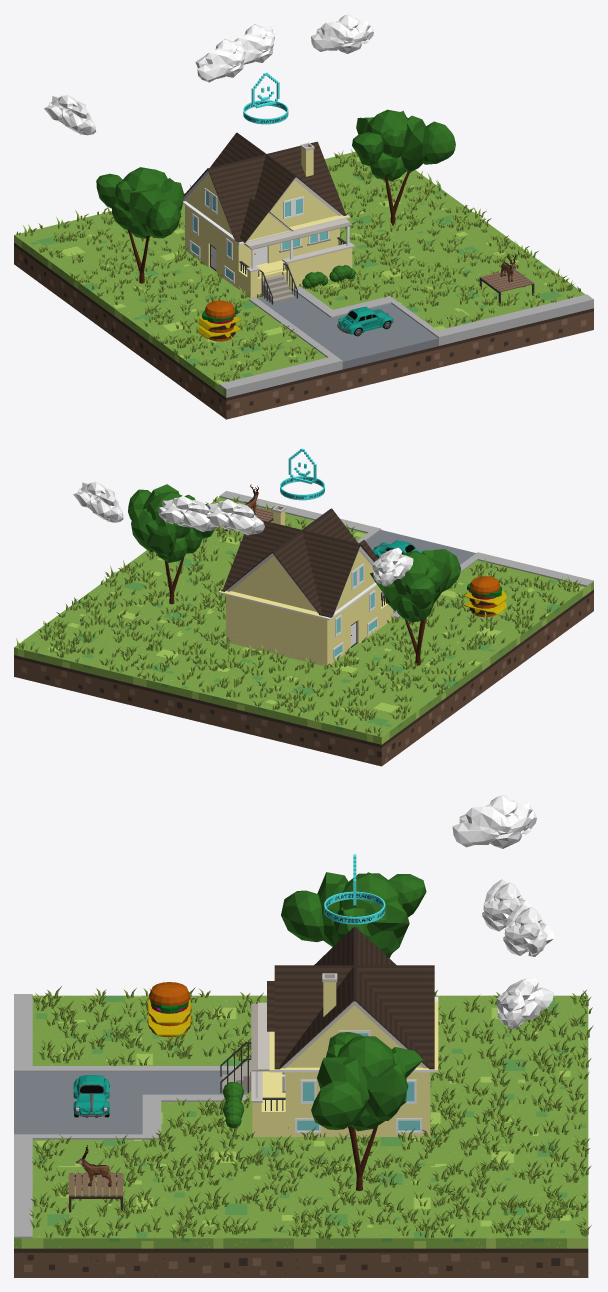
The picture shows the model from 3 angles, top to bottom: view 1: azimuth 30°, elevation 25°; view 2: azimuth 150°, elevation 25°; view 3: azimuth 270°, elevation 25°; orthographic projection. The views are drawn at different scales.
Visible parts, largest first — view 1: Cube.006, Cube.1555, Circle.012_Grass_0.192, Cube.007, tree, tree.001, OBJRANDOM_HAMBURGER, VEHICLES_VOLKSWAGEN, TYPE_PREMIUM, Cube.009; view 2: Cube.006, Cube.1555, Circle.012_Grass_0.192, Cube.007, tree.001, tree, OBJRANDOM_HAMBURGER, TYPE_PREMIUM; view 3: Cube.006, Circle.012_Grass_0.192, Cube.1555, tree, Cube.007, tree.001, OBJRANDOM_HAMBURGER, VEHICLES_VOLKSWAGEN, Cube.009, TYPE_PREMIUM.
Part boxes in pixels (bbox=[...]): Cube.006: bbox=[14, 151, 593, 419]; Cube.1555: bbox=[183, 132, 354, 304]; Circle.012_Grass_0.192: bbox=[16, 149, 580, 381]; Cube.007: bbox=[44, 14, 373, 135]; tree: bbox=[352, 109, 455, 225]; tree.001: bbox=[96, 167, 184, 283]; OBJRANDOM_HAMBURGER: bbox=[198, 300, 241, 341]; VEHICLES_VOLKSWAGEN: bbox=[337, 306, 393, 336]; TYPE_PREMIUM: bbox=[243, 72, 288, 124]; Cube.009: bbox=[479, 269, 534, 303]; Cube.006: bbox=[14, 491, 593, 766]; Cube.1555: bbox=[218, 505, 393, 666]; Circle.012_Grass_0.192: bbox=[16, 496, 580, 736]; Cube.007: bbox=[73, 481, 413, 586]; tree.001: bbox=[370, 549, 460, 665]; tree: bbox=[128, 484, 214, 604]; OBJRANDOM_HAMBURGER: bbox=[463, 576, 506, 617]; TYPE_PREMIUM: bbox=[280, 448, 324, 500]; Cube.006: bbox=[14, 994, 588, 1277]; Circle.012_Grass_0.192: bbox=[29, 986, 593, 1239]; Cube.1555: bbox=[220, 927, 438, 1136]; tree: bbox=[311, 1032, 422, 1190]; Cube.007: bbox=[452, 795, 553, 1029]; tree.001: bbox=[281, 872, 426, 958]; OBJRANDOM_HAMBURGER: bbox=[147, 982, 192, 1037]; VEHICLES_VOLKSWAGEN: bbox=[73, 1075, 109, 1117]; Cube.009: bbox=[69, 1172, 122, 1212]; TYPE_PREMIUM: bbox=[324, 854, 385, 924].
Bounding box in the file's own units: 4071 × 2401 × 4040.
41 materials, 4 textured.
